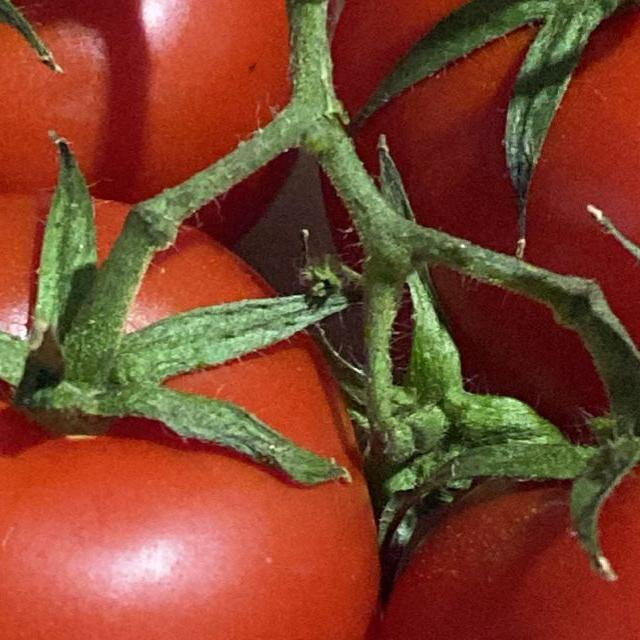tomato: (0, 146, 395, 640), (325, 0, 640, 405), (0, 0, 332, 275), (379, 292, 640, 640)
